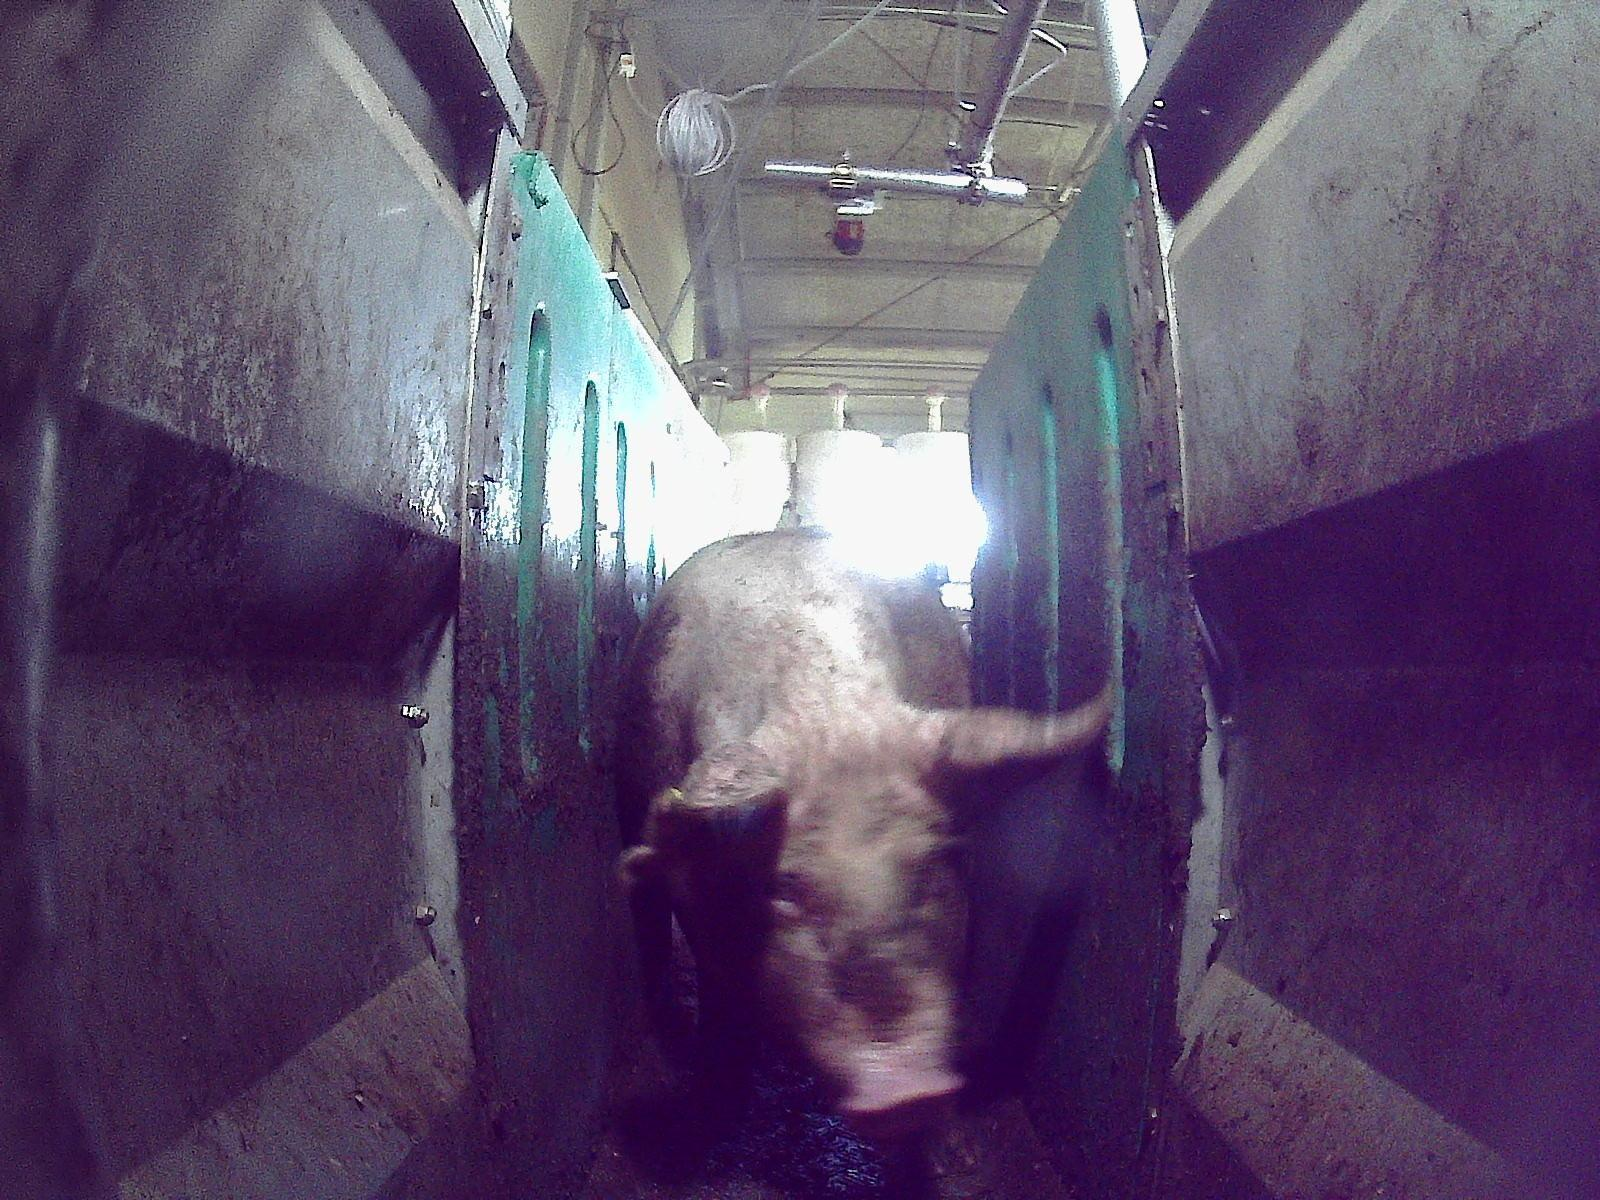Face: (704, 749, 974, 1138)
